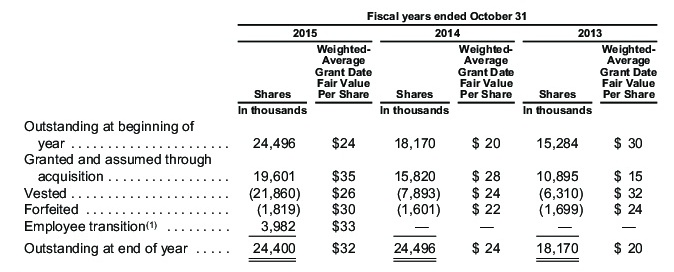table: (0, 0, 674, 272)
